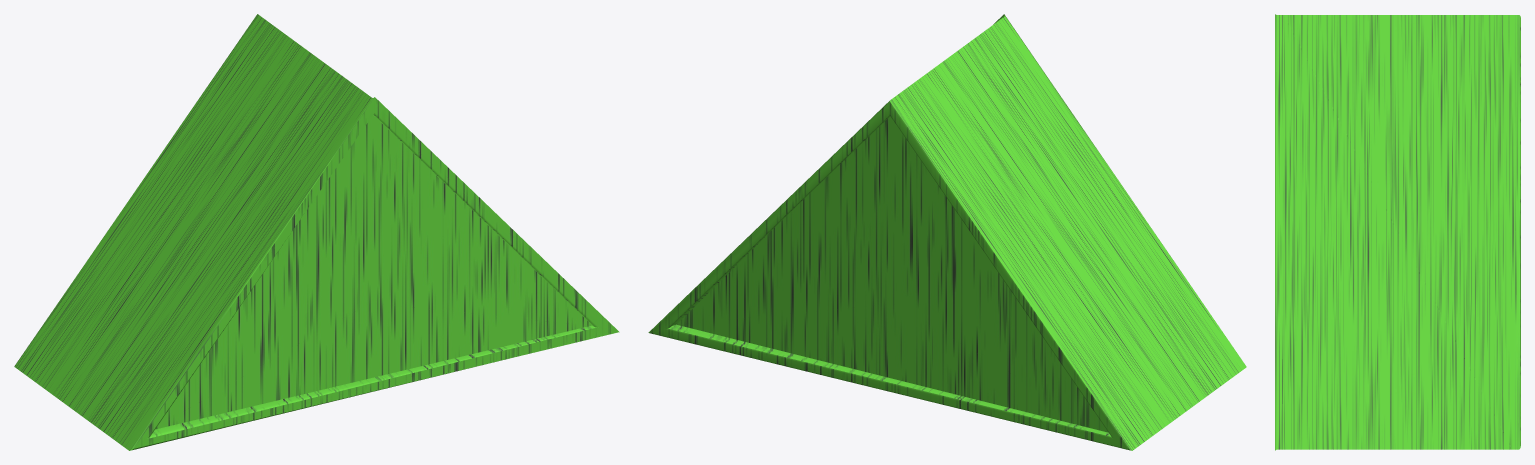
3 renders of one model, left to right at view 1: azimuth 30°, elevation 25°; view 2: azimuth 150°, elevation 25°; view 3: azimuth 270°, elevation 25°, orthographic. The views are drawn at different scales.
Parts seen in each view (by area): view 1: pCylinder2; view 2: pCylinder2; view 3: pCylinder2.
Boxes of the visible parts, bbox=[...] form: pCylinder2: bbox=[14, 14, 619, 450]; pCylinder2: bbox=[648, 14, 1246, 450]; pCylinder2: bbox=[1275, 14, 1520, 450].
Size of the model in its own units: 0.0788 by 0.0454 by 0.0325.
1 material, 1 textured.
